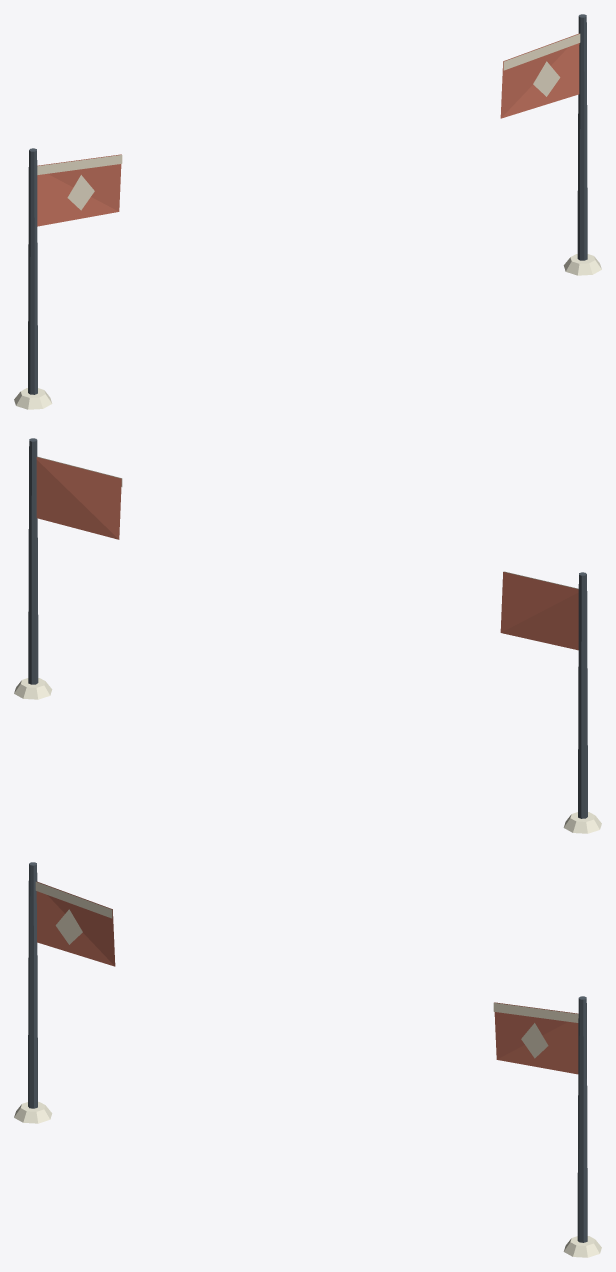
Rendered from gate-coral.glb.
3 views of the same model, one above another, from view 1: azimuth 30°, elevation 25°; view 2: azimuth 150°, elevation 25°; view 3: azimuth 330°, elevation 25° (orthographic).
Parts seen in each view (by area): view 1: gate-coral; view 2: gate-coral; view 3: gate-coral.
Boxes of the visible parts, x1,y1,x2,y2 form: gate-coral: (14,14,601,409); gate-coral: (14,438,601,833); gate-coral: (14,862,601,1257).
Bounding box in the file's own units: 6.8 × 2.8 × 0.4.
